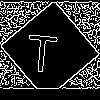T: (25, 25, 59, 74)
